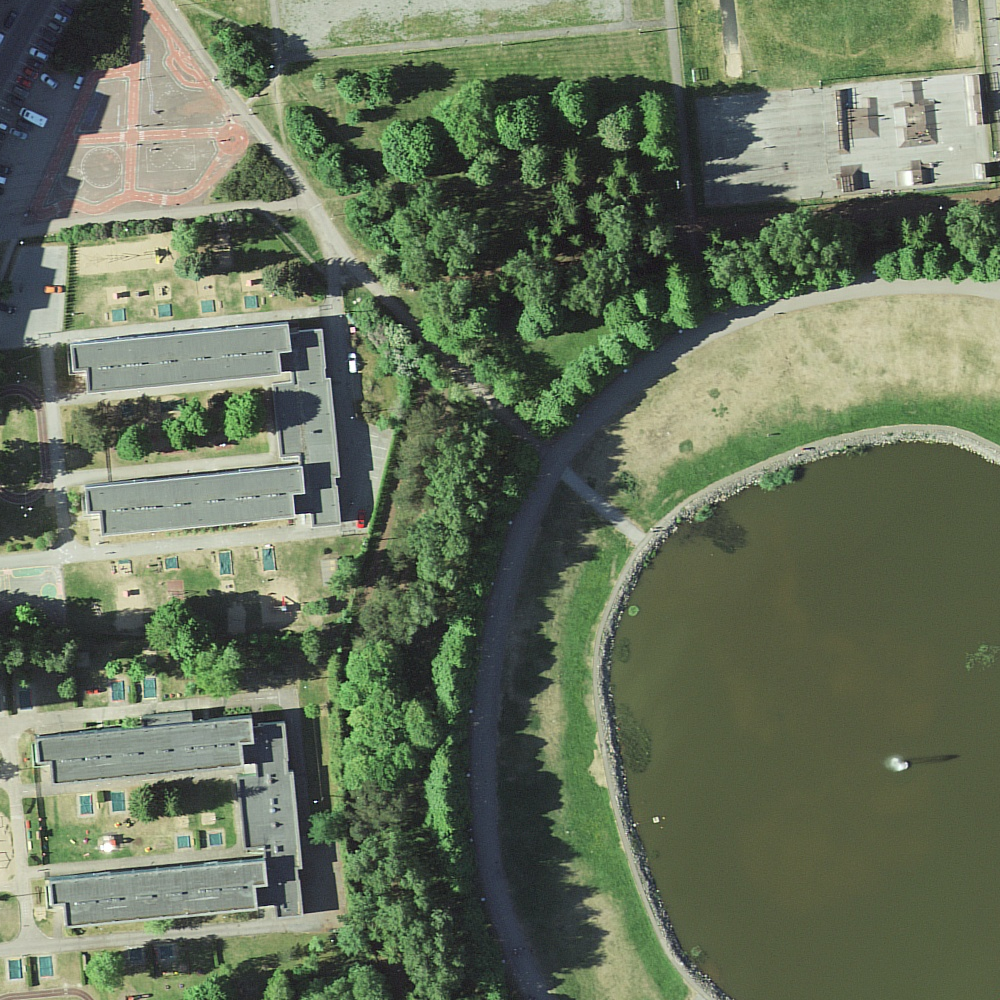building: (71, 324, 345, 537), (37, 713, 305, 927)
